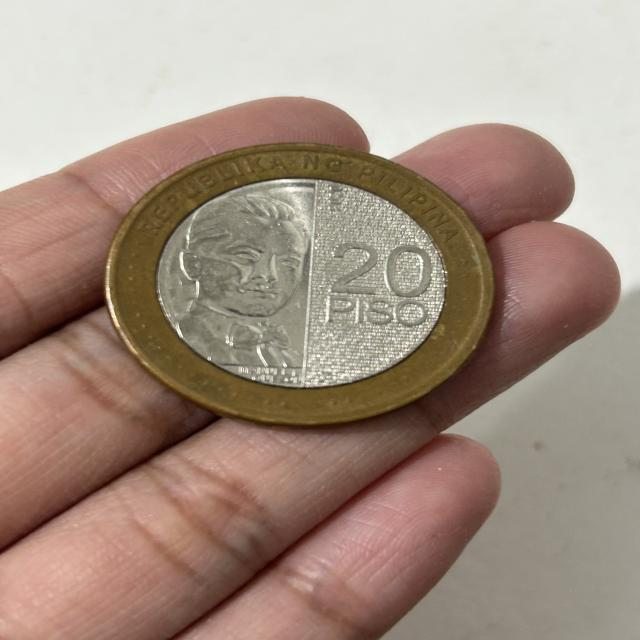20_New_Front: (323, 238, 435, 334)
